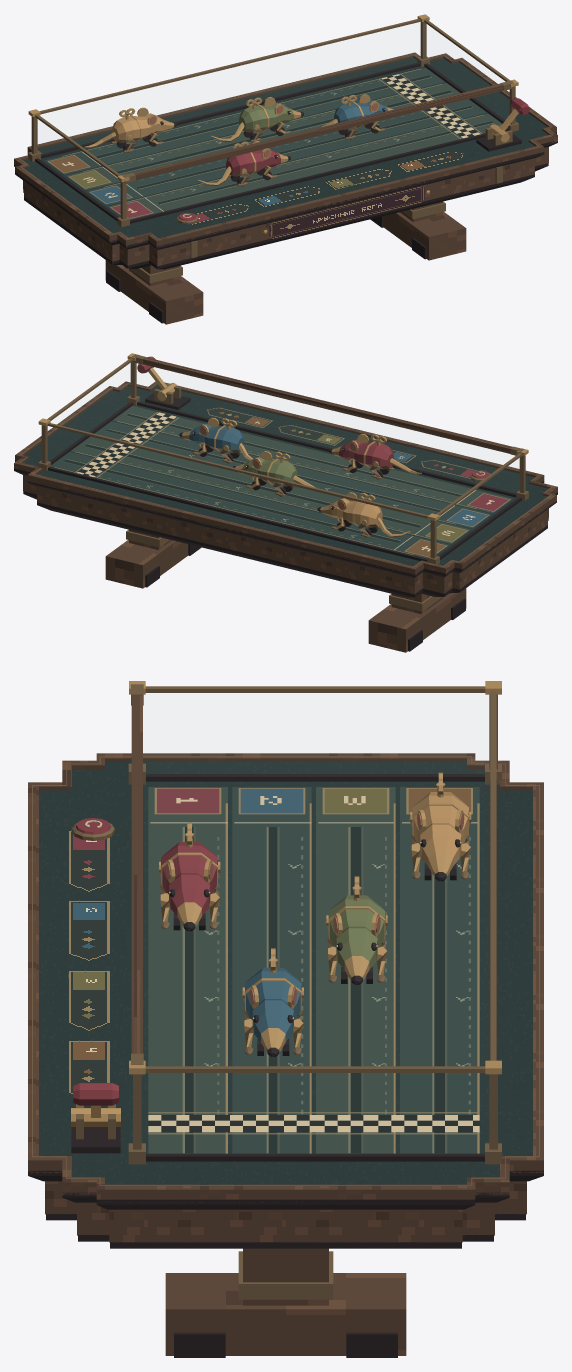
Rendered from rat-derby.glb.
3 views of the same model, one above another, from view 1: azimuth 30°, elevation 25°; view 2: azimuth 150°, elevation 25°; view 3: azimuth 270°, elevation 25° (orthographic). The views are drawn at different scales.
Parts seen in each view (by area): view 1: Deck | lanes and betting stations, Deck | walnut surround, Cabinet | deep walnut apron, Case | front walnut crossbar, Trestle foot, Cabinet | enamel race plaque, Trestle foot.001, Cabinet | stepped skirt, Cabinet | upper moulding, Rat_04, Rat_03, Case | sill (+10 smaller); view 2: Deck | lanes and betting stations, Cabinet | deep walnut apron, Deck | walnut surround, Case | front walnut crossbar, Trestle foot, Cabinet | stepped skirt, Trestle foot.001, Cabinet | upper moulding, Rat_01, Case | sill.001, Rat_02, Rat_04 (+10 smaller); view 3: Deck | lanes and betting stations, Deck | walnut surround, Cabinet | deep walnut apron, Trestle foot.001, Cabinet | upper moulding, Rat_01, Rat_04, Rat_02, Rat_03, Case | front walnut crossbar, Square column.001, Cabinet | stepped skirt (+11 smaller).
Boxes of the visible parts, box(x1,y1,x2,y2) form: Deck | lanes and betting stations: box(24, 57, 547, 238); Deck | walnut surround: box(14, 52, 557, 247); Cabinet | deep walnut apron: box(23, 147, 548, 266); Case | front walnut crossbar: box(124, 83, 503, 182); Trestle foot: box(105, 260, 203, 324); Cabinet | enamel race plaque: box(269, 186, 424, 239); Trestle foot.001: box(383, 212, 466, 260); Cabinet | stepped skirt: box(23, 163, 548, 269); Cabinet | upper moulding: box(14, 132, 557, 249); Rat_04: box(84, 107, 176, 152); Rat_03: box(211, 97, 303, 142); Case | sill: box(130, 128, 509, 223); Deck | lanes and betting stations: box(23, 385, 548, 566); Cabinet | deep walnut apron: box(23, 475, 548, 594); Deck | walnut surround: box(14, 381, 557, 575); Case | front walnut crossbar: box(143, 357, 512, 453); Trestle foot: box(368, 588, 466, 652); Cabinet | stepped skirt: box(23, 491, 548, 597); Trestle foot.001: box(105, 540, 188, 588); Cabinet | upper moulding: box(14, 460, 557, 578); Rat_01: box(329, 434, 421, 479); Case | sill.001: box(48, 466, 427, 561); Rat_02: box(179, 417, 252, 463); Rat_04: box(317, 492, 410, 537); Deck | lanes and betting stations: box(39, 762, 532, 1184); Deck | walnut surround: box(28, 753, 543, 1202); Cabinet | deep walnut apron: box(45, 1181, 526, 1242); Trestle foot.001: box(165, 1273, 406, 1355); Cabinet | upper moulding: box(28, 1170, 543, 1209); Rat_01: box(158, 822, 220, 931); Rat_04: box(409, 772, 471, 881); Rat_02: box(241, 948, 303, 1056); Rat_03: box(325, 876, 387, 984); Case | front walnut crossbar: box(131, 695, 142, 1074); Square column.001: box(243, 1248, 328, 1305); Cabinet | stepped skirt: box(46, 1214, 525, 1248).
Size of the model in its own units: 3.75 by 1.32 by 1.88.
Materials: 13 (3 with a texture image).
